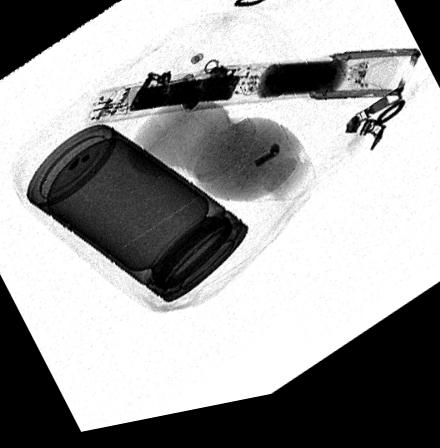Baton: (84, 62, 421, 129)
